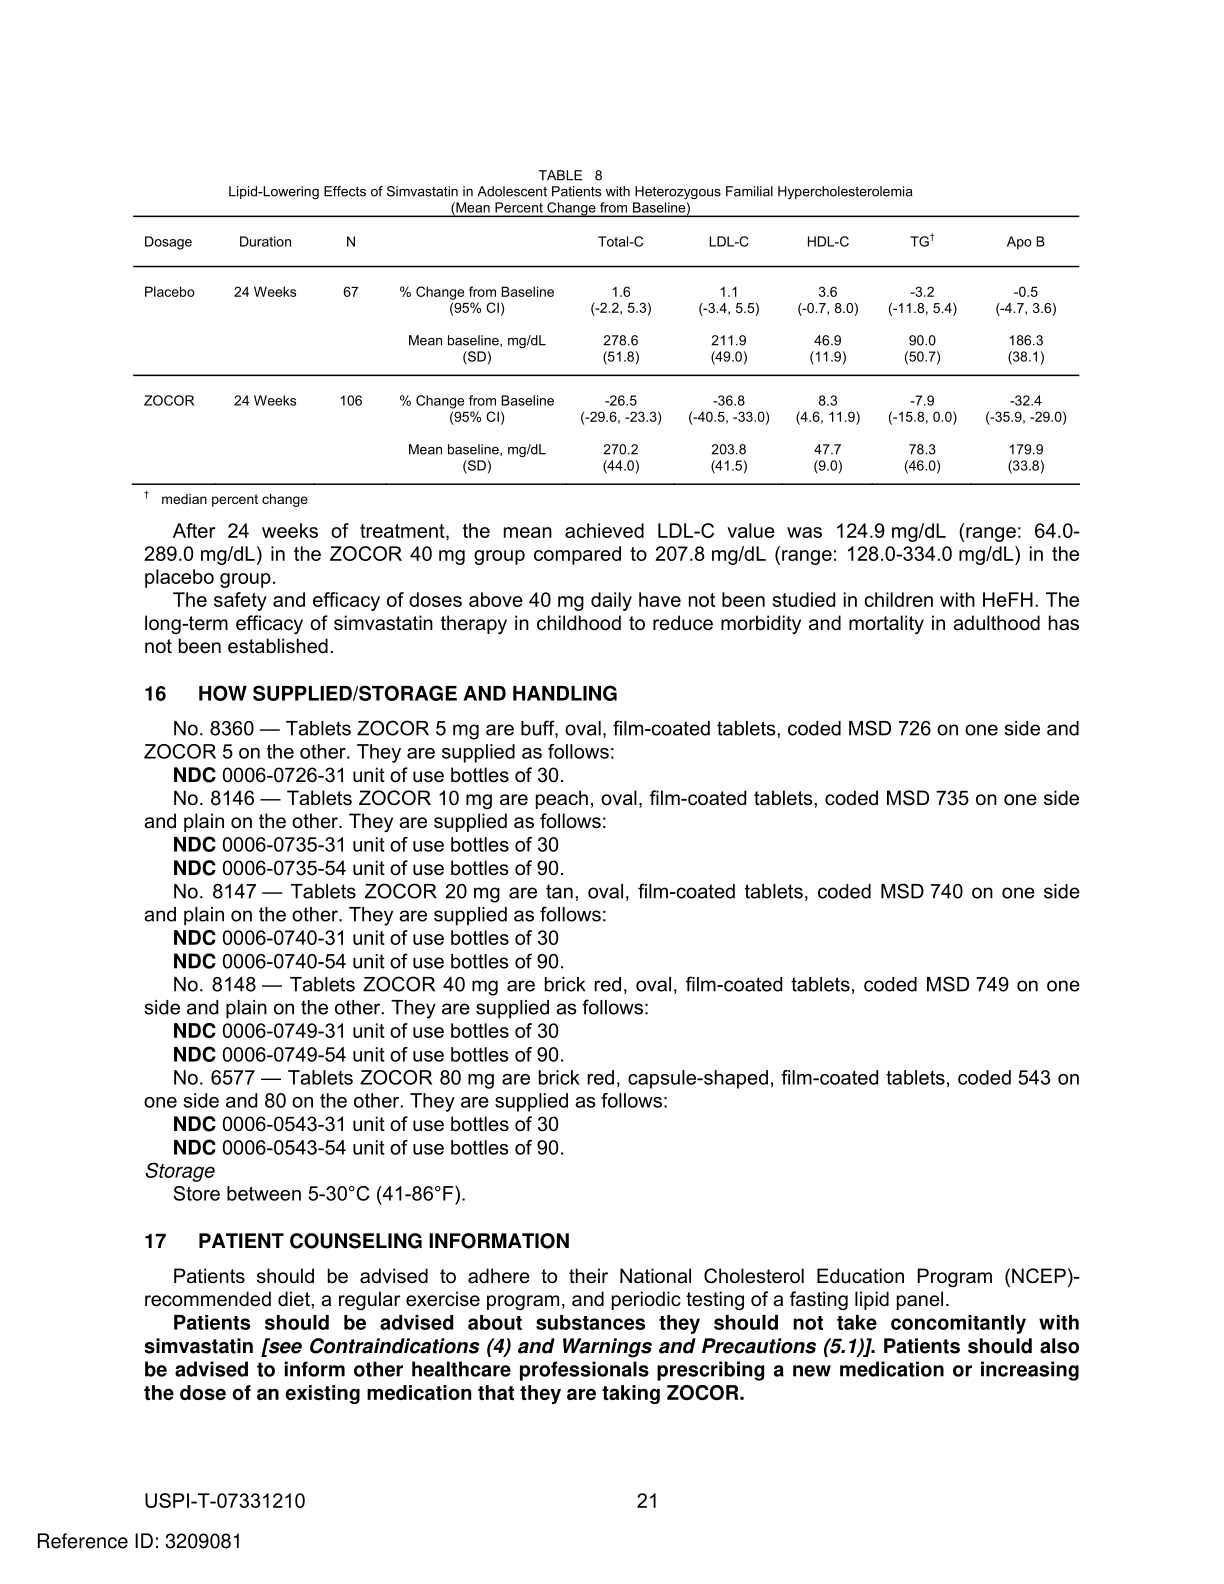partial_lined: (130, 213, 1083, 487)
